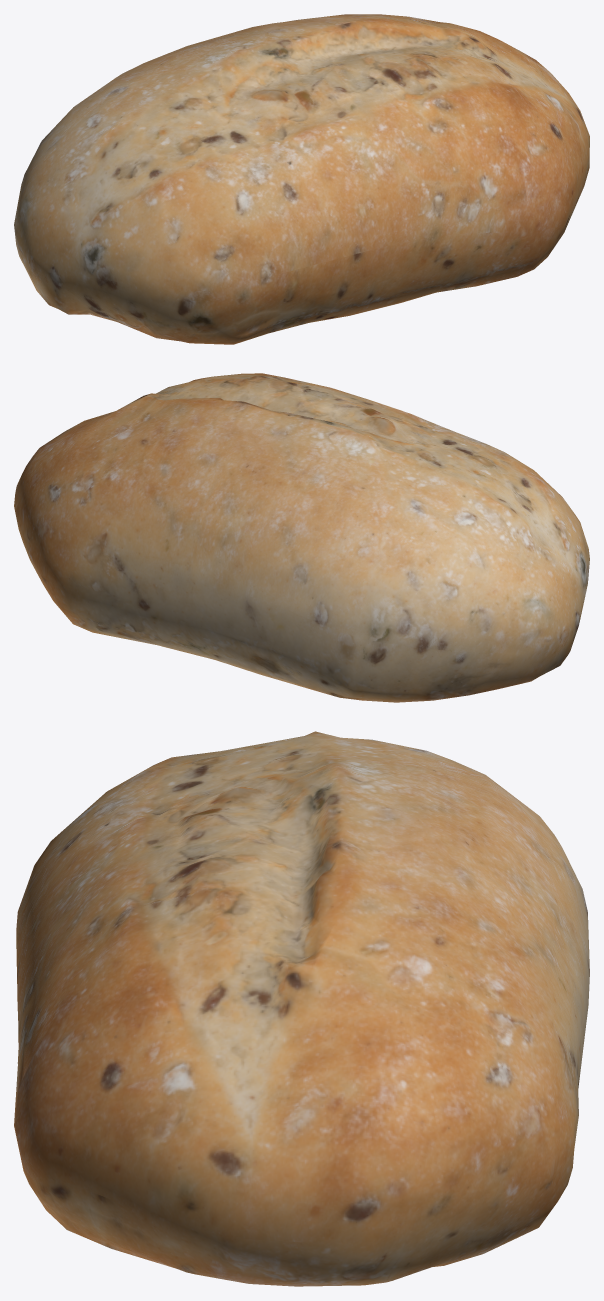
Rendered from Bread.fbx.
The picture shows the model from 3 angles, top to bottom: view 1: azimuth 30°, elevation 25°; view 2: azimuth 150°, elevation 25°; view 3: azimuth 270°, elevation 25°; orthographic projection. The views are drawn at different scales.
Visible parts, largest first — view 1: bread; view 2: bread; view 3: bread.
Part boxes in pixels (x1,y1,x2,y2): bread: (14,14,589,344); bread: (14,373,589,702); bread: (14,731,589,1286).
Bounding box in the file's own units: 12.44 × 4.72 × 7.6.
Materials: 1 (1 with a texture image).
